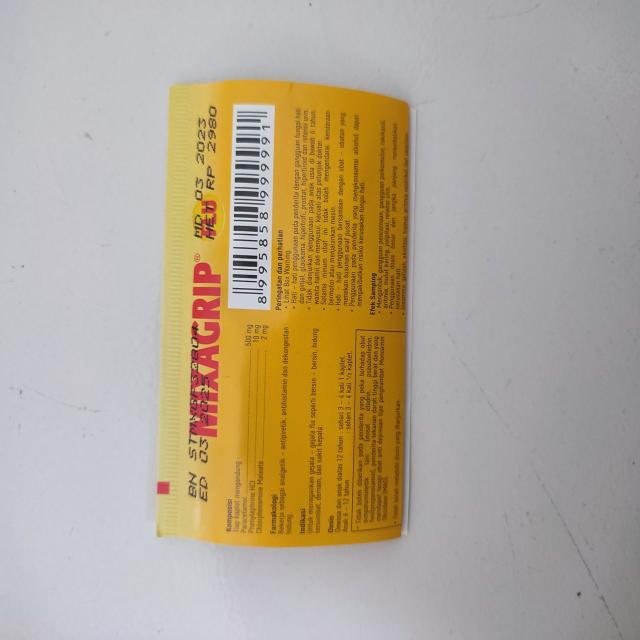B3: (152, 79, 411, 546)
